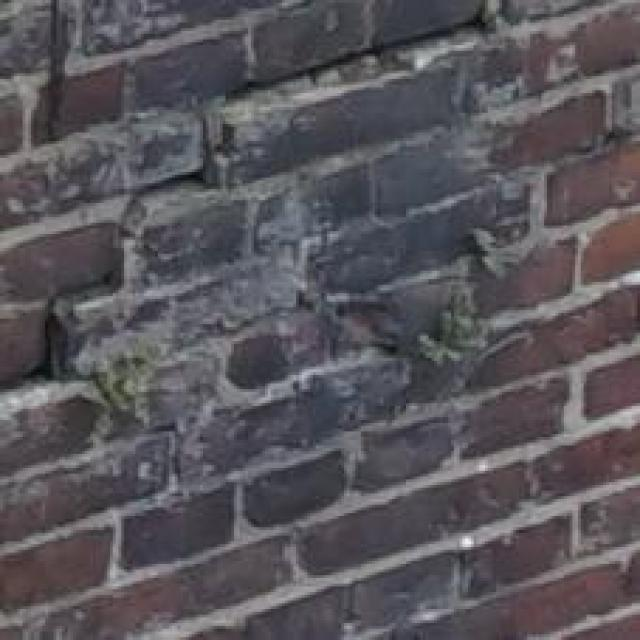Crack: (0, 0, 570, 426)
